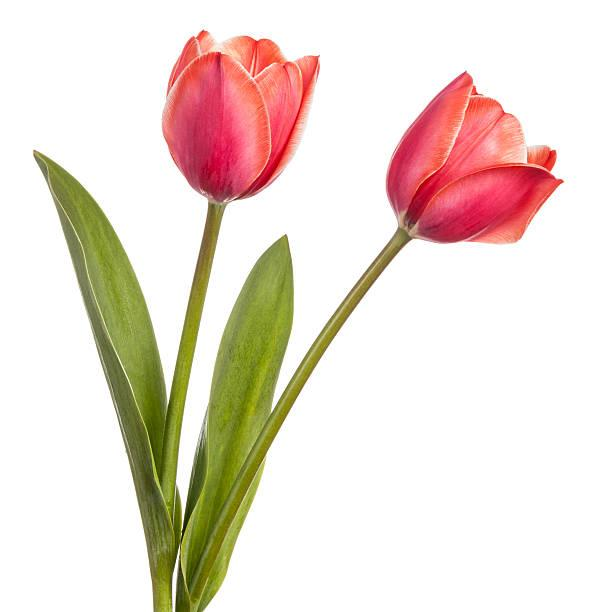tulip: (384, 69, 563, 246), (160, 28, 320, 205)
